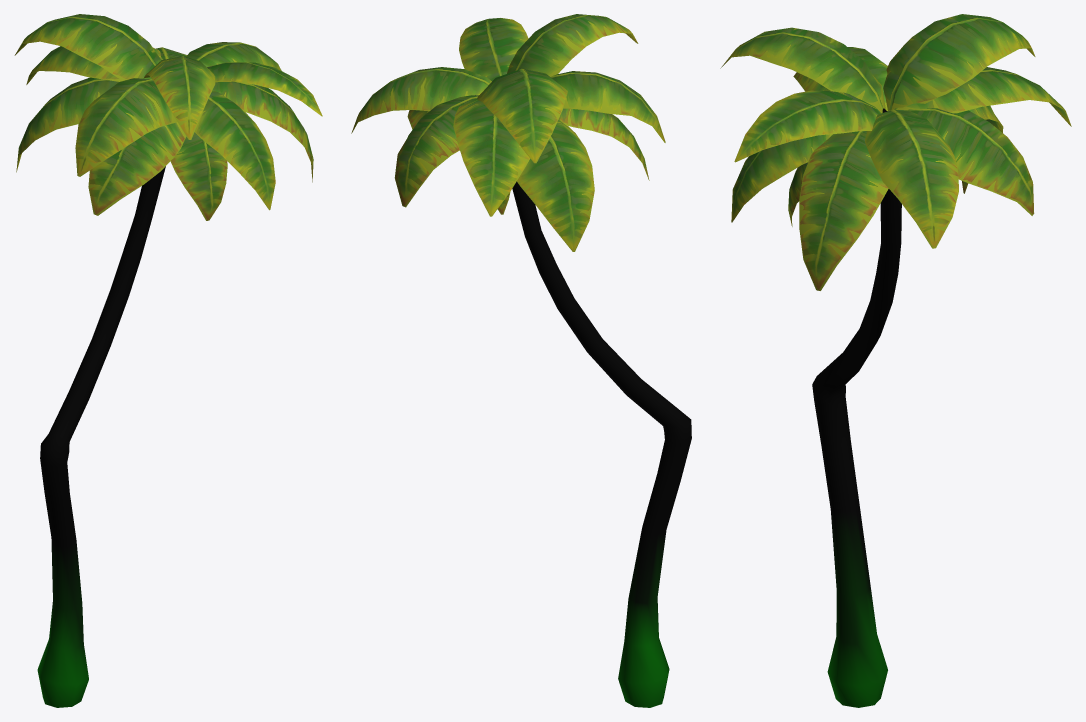
File: P_PalmTree11.obj
3 renders of one model, left to right at view 1: azimuth 30°, elevation 25°; view 2: azimuth 150°, elevation 25°; view 3: azimuth 270°, elevation 25°, orthographic. The views are drawn at different scales.
Bounding box in the file's own units: 7.75 × 16.14 × 7.17.
